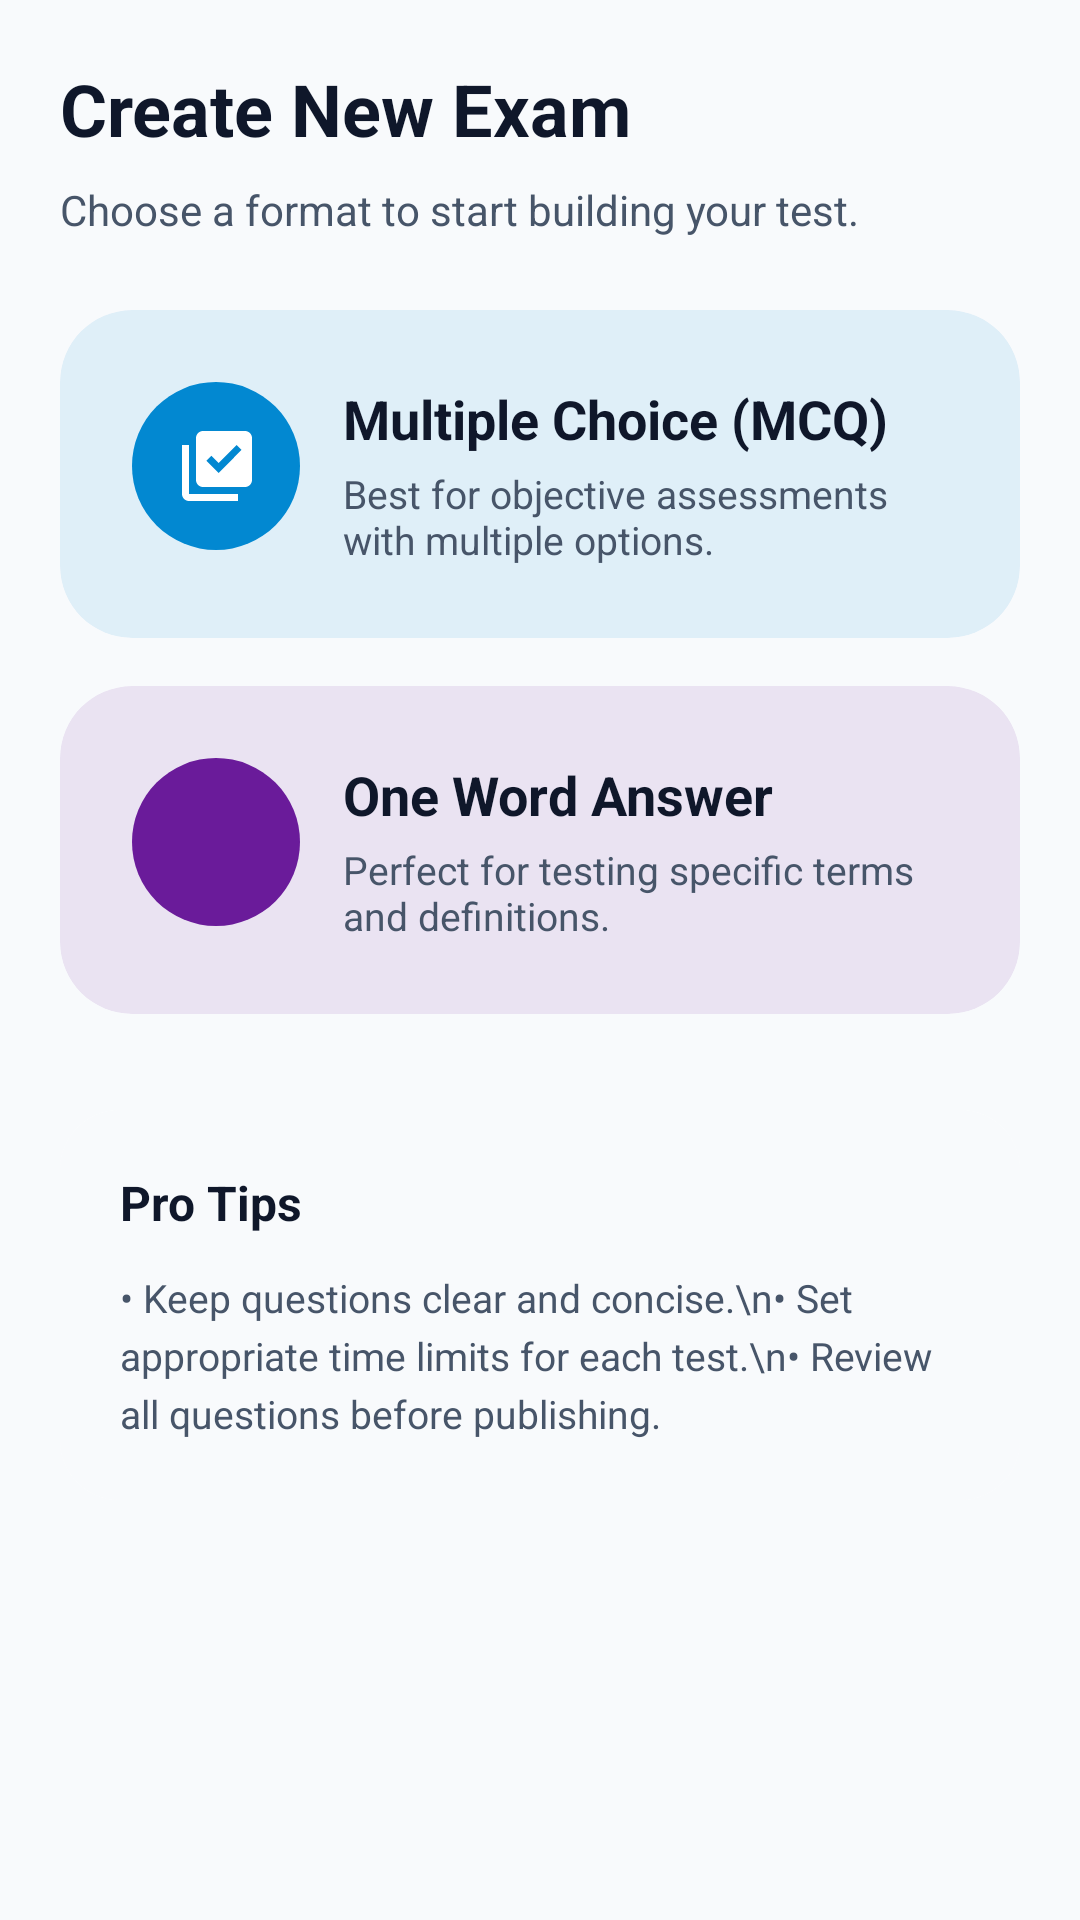

Named icons in this screenshot (1080×1920) and their bounding boxes, bbox(x1, y1, x2, y2):
library add check: bbox(182, 431, 252, 501)
